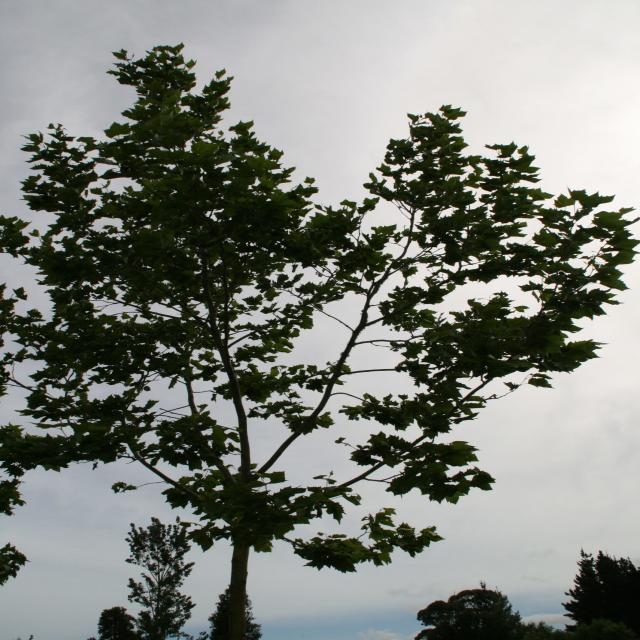Platinus acerifolia: (3, 42, 640, 544)
